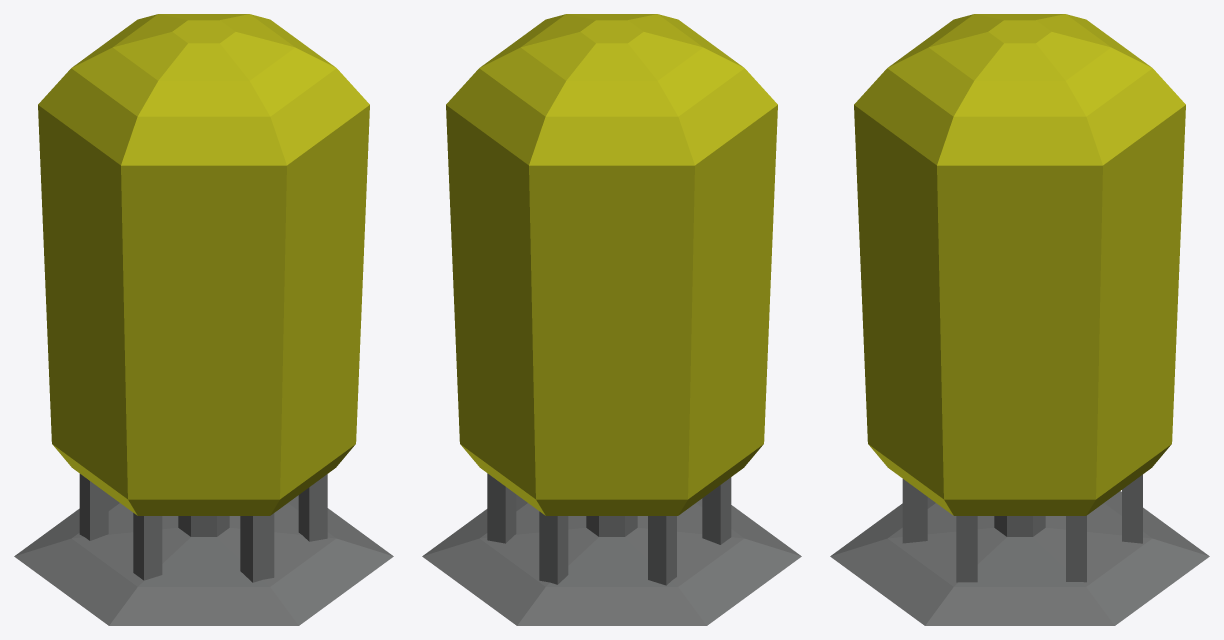
Rendered from pee_tank.glb.
3 views of the same model, side by side, from view 1: azimuth 30°, elevation 25°; view 2: azimuth 150°, elevation 25°; view 3: azimuth 270°, elevation 25° (orthographic).
Visible parts, largest first — view 1: Circle, Cube, Cube.005, Cube.001, Cube.004; view 2: Circle, Cube.003, Cube.004, Cube.002, Cube.005; view 3: Circle, Cube.001, Cube, Cube.002, Cube.003.
Part boxes in pixels (box(x1,y1,x2,y2)): Circle: box(14, 14, 393, 625); Cube: box(240, 513, 274, 582); Cube.005: box(133, 513, 162, 580); Cube.001: box(298, 474, 327, 541); Cube.004: box(79, 474, 108, 540); Circle: box(422, 14, 801, 625); Cube.003: box(539, 511, 568, 584); Cube.004: box(648, 516, 676, 585); Cube.002: box(487, 473, 516, 543); Cube.005: box(702, 477, 731, 544); Circle: box(830, 14, 1209, 625); Cube.001: box(956, 516, 977, 582); Cube: box(902, 479, 927, 543); Cube.002: box(1066, 515, 1086, 582); Cube.003: box(1122, 474, 1142, 543).
Size of the model in its own units: 0.866 by 1.52 by 1.
